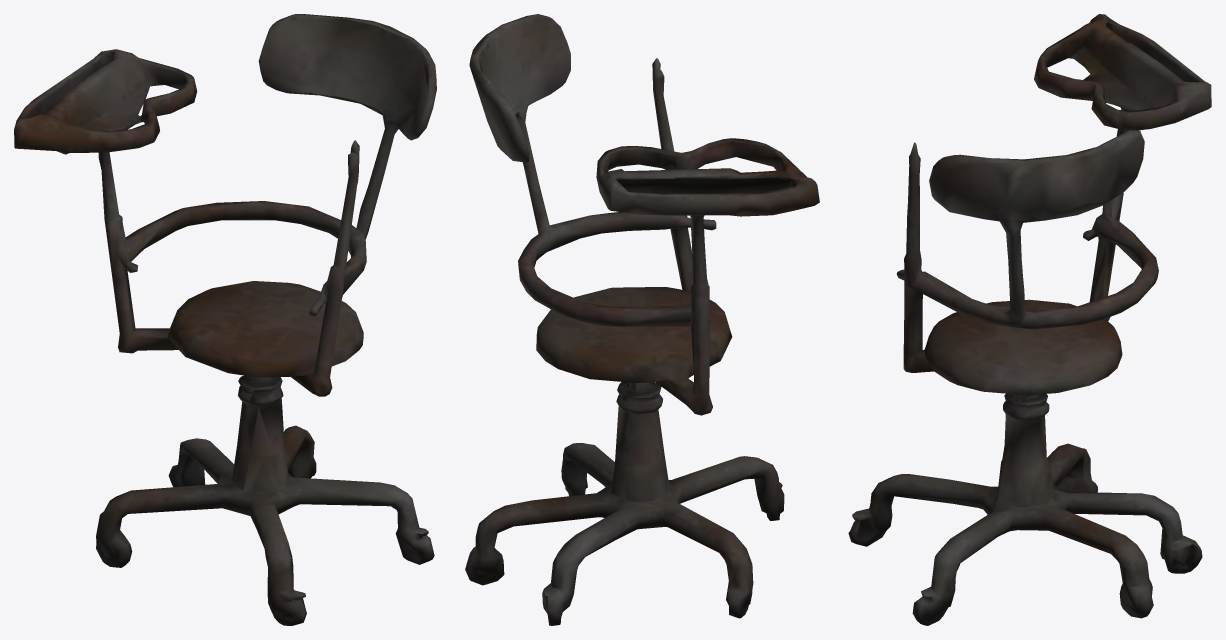
File: simple-iron-examination-chair-v001.glb
3 views of the same model, side by side, from view 1: azimuth 30°, elevation 25°; view 2: azimuth 150°, elevation 25°; view 3: azimuth 270°, elevation 25° (orthographic). The views are drawn at different scales.
Parts seen in each view (by area): view 1: simple-iron-examination-chair; view 2: simple-iron-examination-chair; view 3: simple-iron-examination-chair.
Part boxes in pixels (box(x1,y1,x2,y2)): simple-iron-examination-chair: box(14, 14, 436, 625); simple-iron-examination-chair: box(465, 14, 819, 625); simple-iron-examination-chair: box(848, 14, 1211, 625).
Size of the model in its own units: 0.9135 by 1.16 by 0.7912.
1 material, 1 textured.
